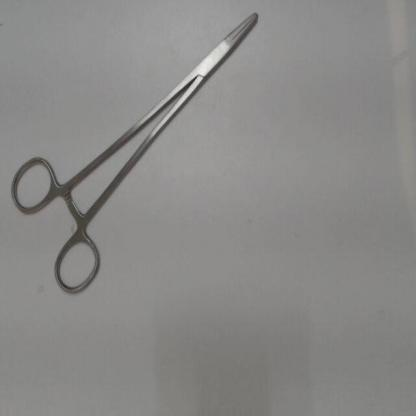8 Mayo Needle Holder: (4, 6, 276, 304)
